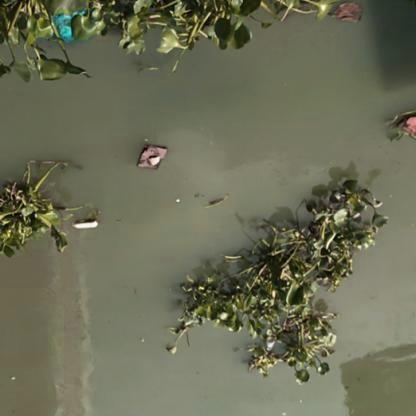Trash: (71, 214, 100, 233)
